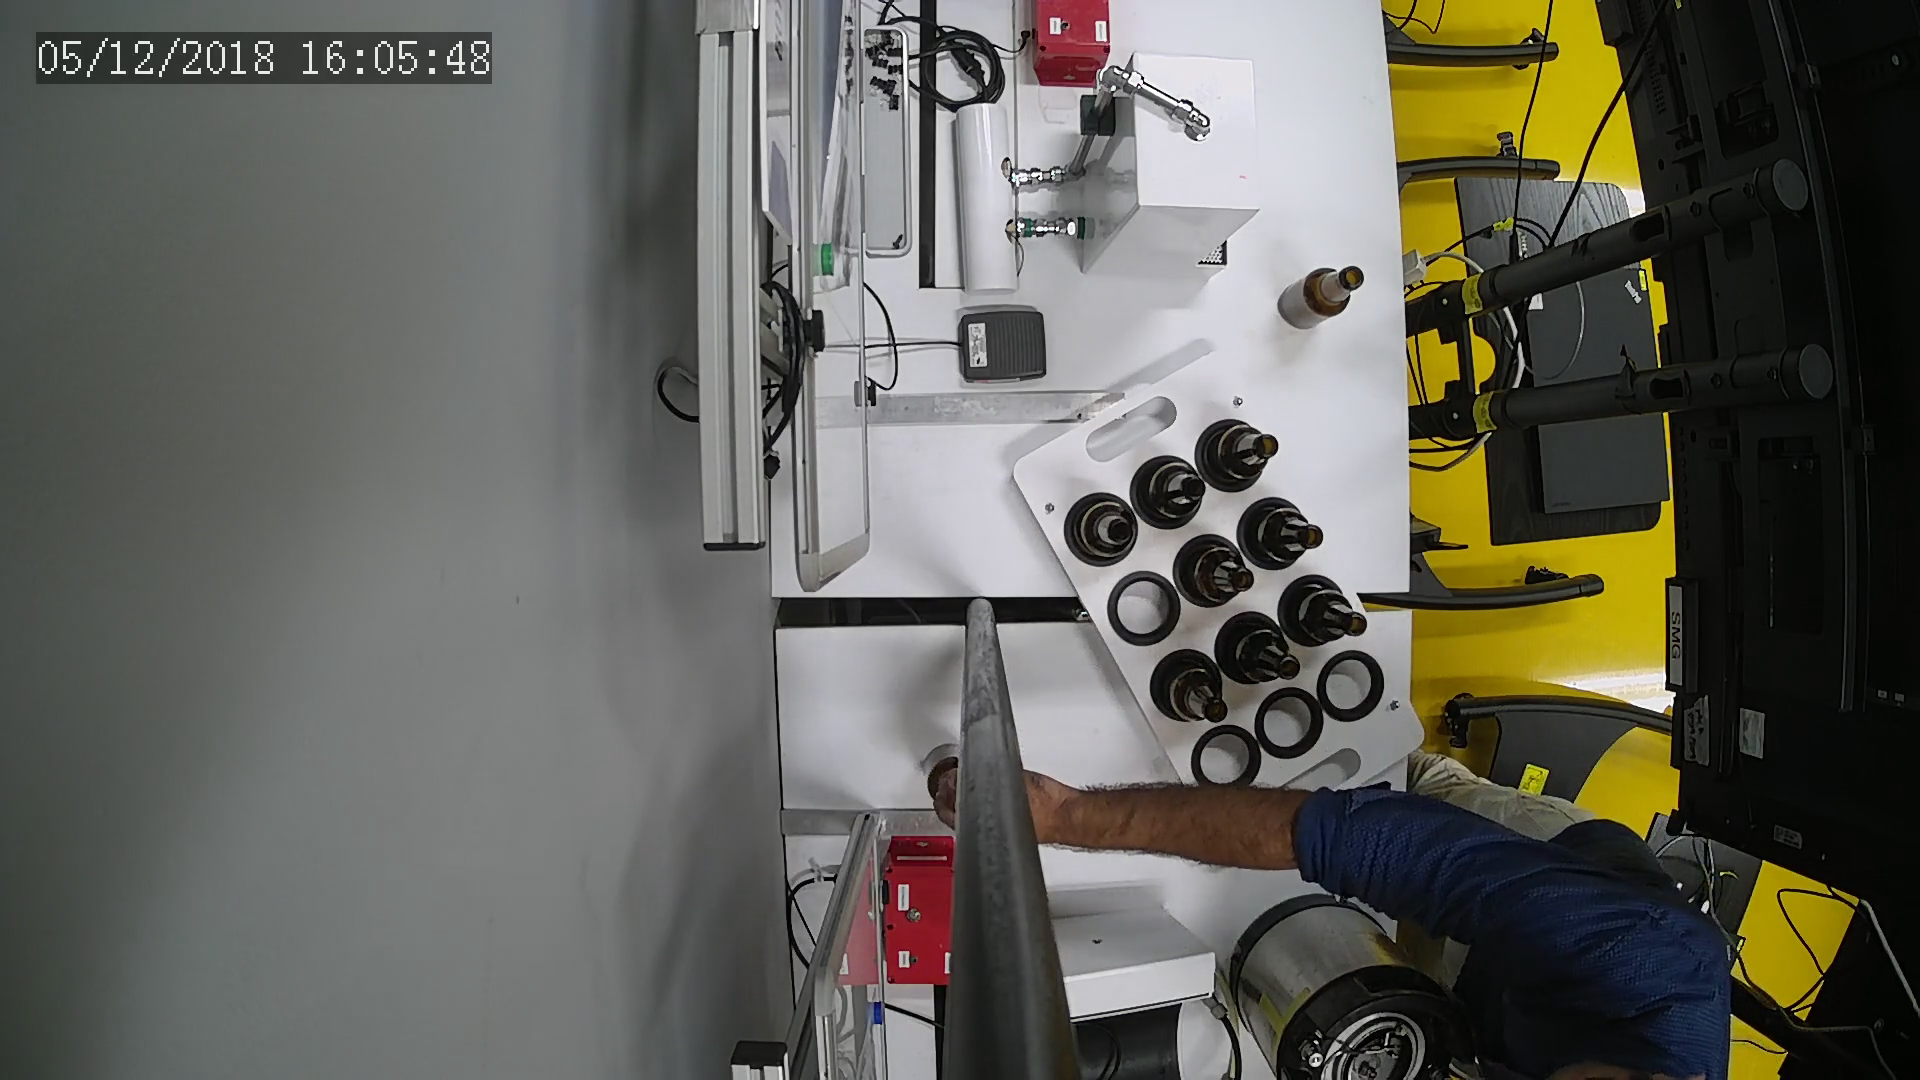filled_bottle: (1212, 613, 1305, 688), (1280, 576, 1374, 649), (1172, 535, 1261, 611), (1149, 653, 1233, 728), (1241, 498, 1327, 572), (1127, 455, 1211, 530), (1199, 418, 1280, 493), (1062, 491, 1143, 566)
trolley: (1011, 349, 1428, 865)
unfilled_bottle: (1276, 261, 1367, 334)
